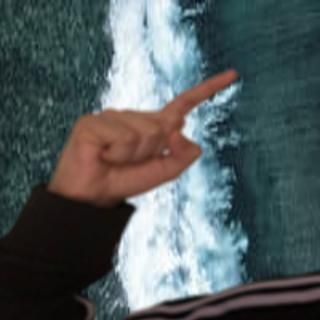WHY: (46, 64, 244, 202)
